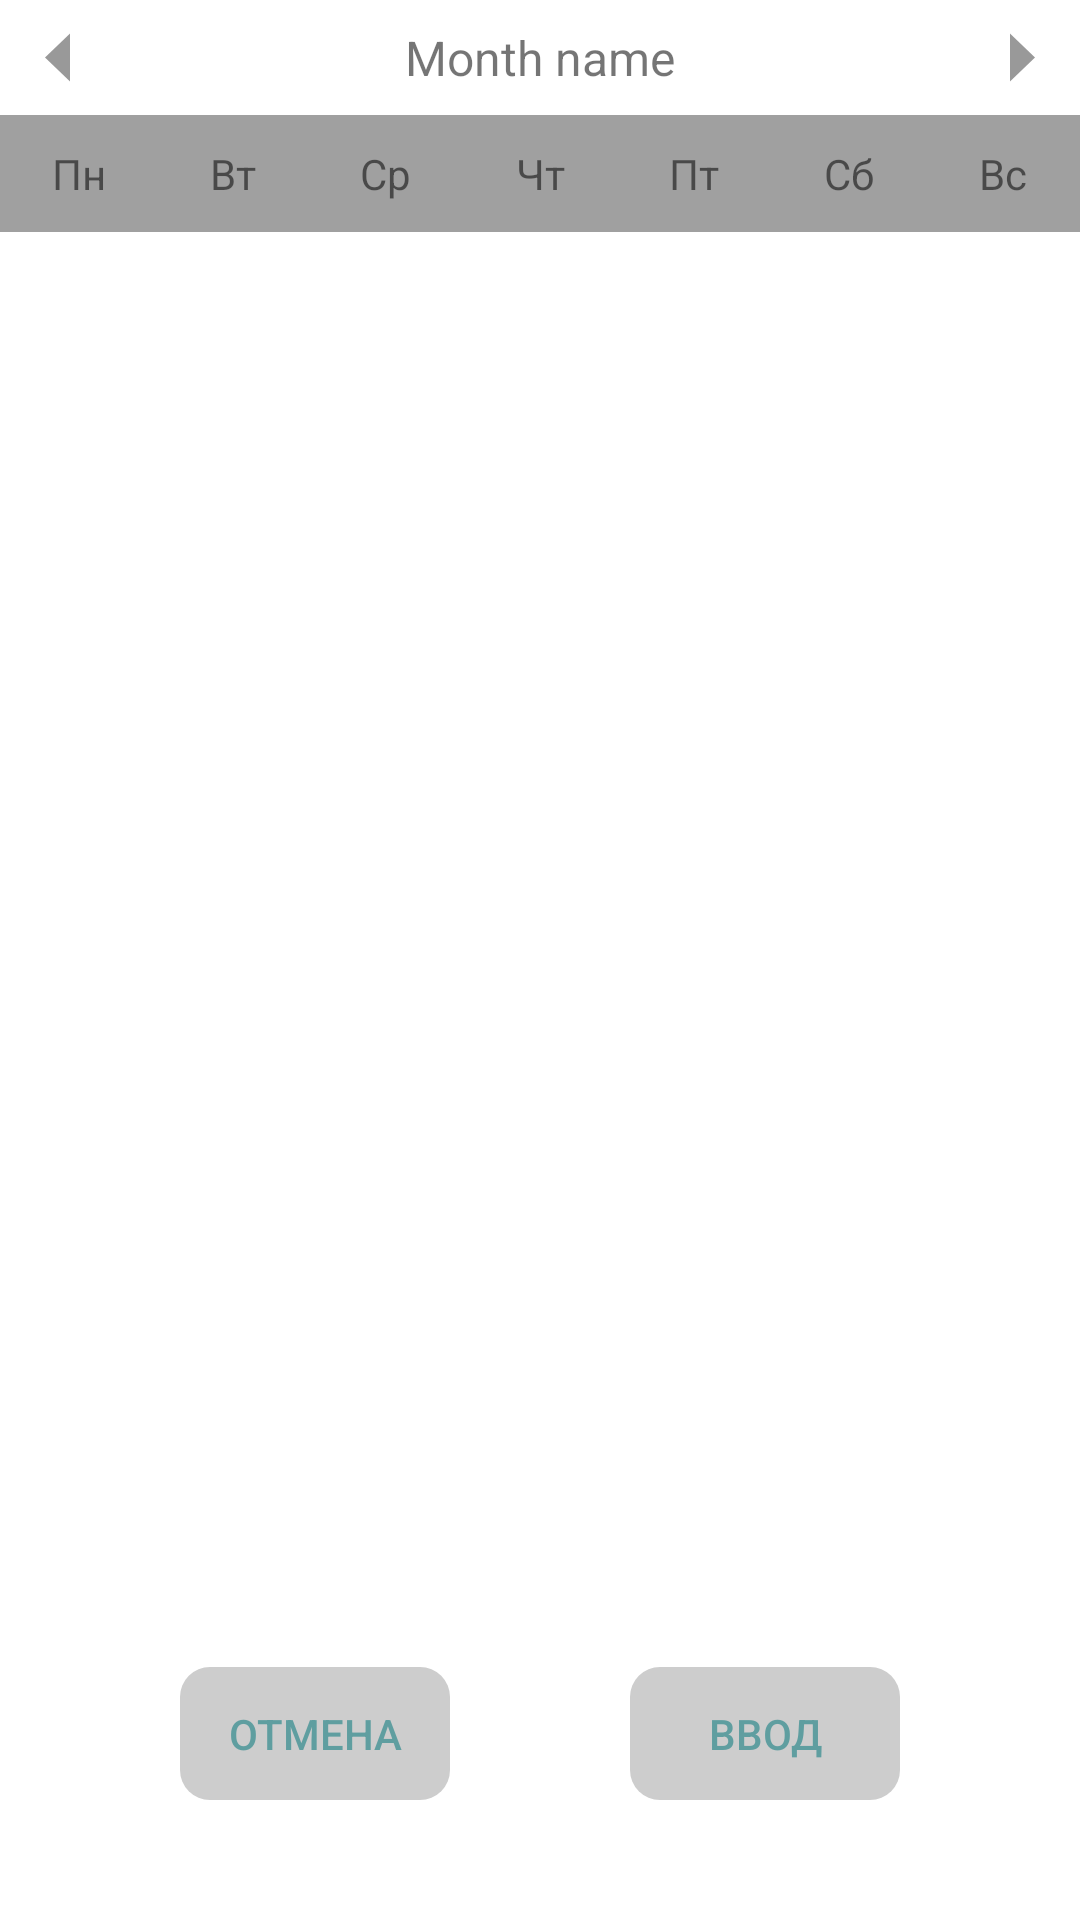

Named icons in this screenshot (1080px×1920px) and their bounding boxes, [x1,y1,x2,y2]:
arrow left: [45,34,70,81]
arrow right: [1010,34,1035,81]
